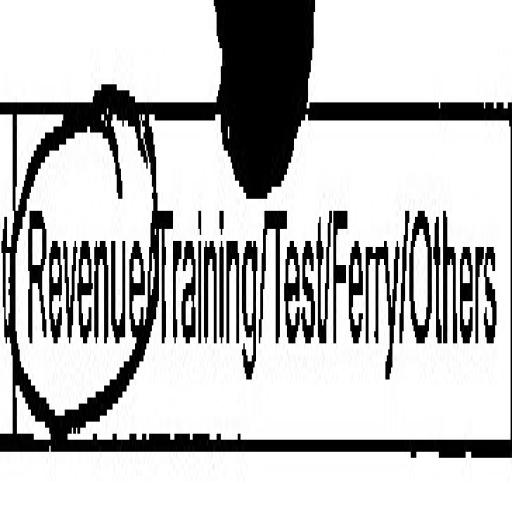check: (11, 0, 154, 512)
